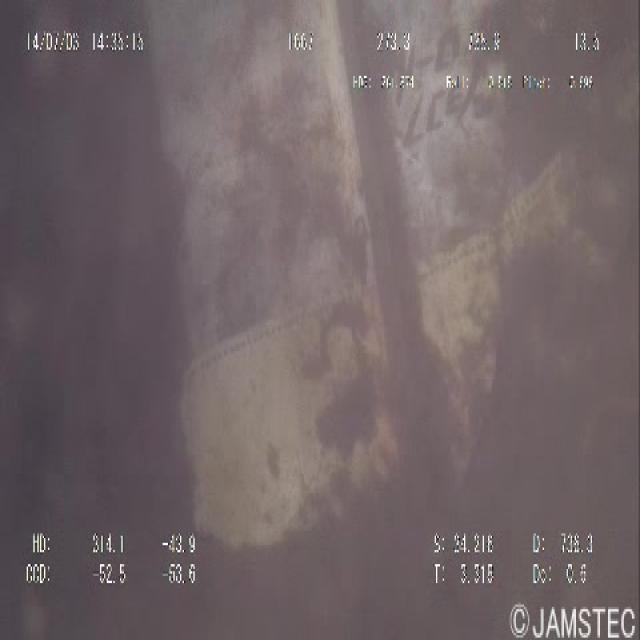plastic: (123, 2, 620, 583)
